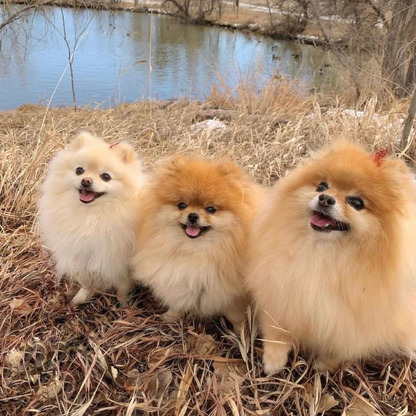Pomeranian: (275, 137, 410, 393), (148, 139, 253, 339), (42, 127, 135, 304)
